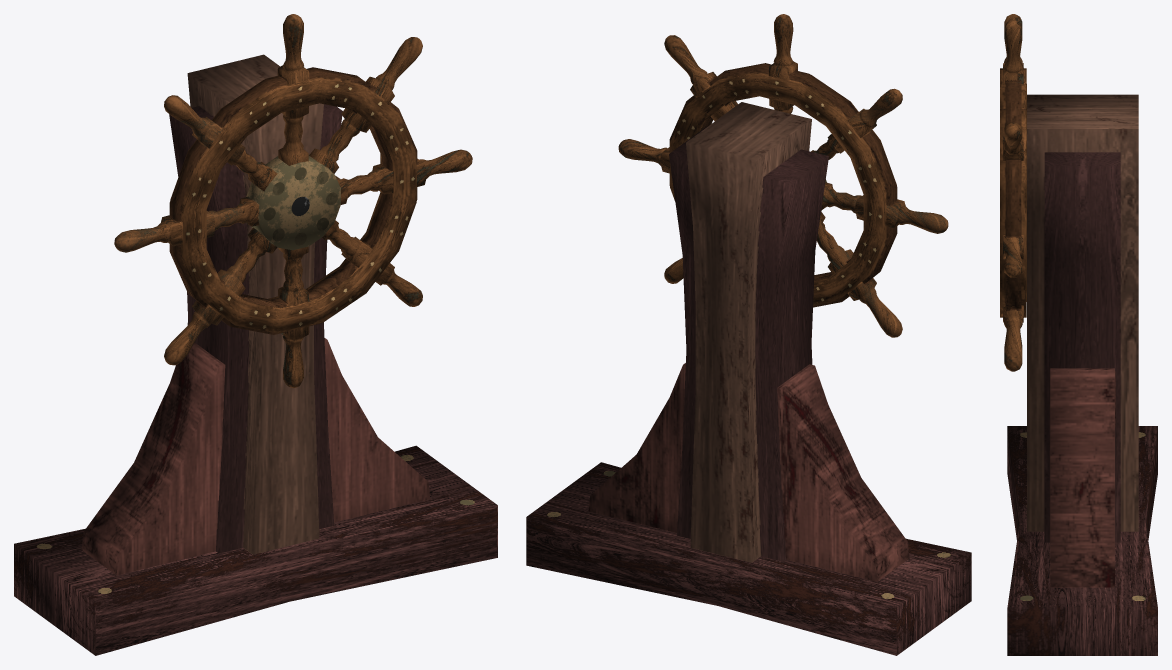
The model's file is ShipWheel.fbx.
3 views of the same model, side by side, from view 1: azimuth 30°, elevation 25°; view 2: azimuth 150°, elevation 25°; view 3: azimuth 270°, elevation 25° (orthographic). The views are drawn at different scales.
Parts seen in each view (by area): view 1: ShipWheelStand, ShipWheel; view 2: ShipWheelStand, ShipWheel; view 3: ShipWheelStand, ShipWheel.
Part boxes in pixels (x1,y1,x2,y2): ShipWheelStand: (14, 54, 497, 655); ShipWheel: (114, 14, 472, 388); ShipWheelStand: (526, 102, 971, 655); ShipWheel: (618, 14, 948, 337); ShipWheelStand: (1007, 94, 1157, 655); ShipWheel: (1000, 14, 1026, 371).
Size of the model in its own units: 1.17 by 1.64 by 0.4303.
